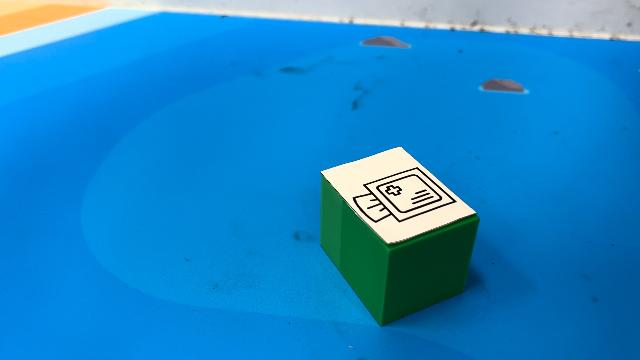napkin: (318, 146, 478, 330)
